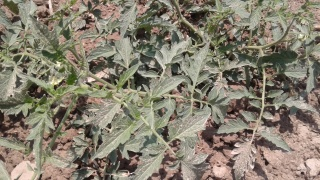tomato flower: (42, 59, 73, 89)
tomato plant: (12, 4, 283, 155)
